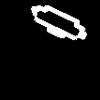chain: (31, 6, 86, 39)
